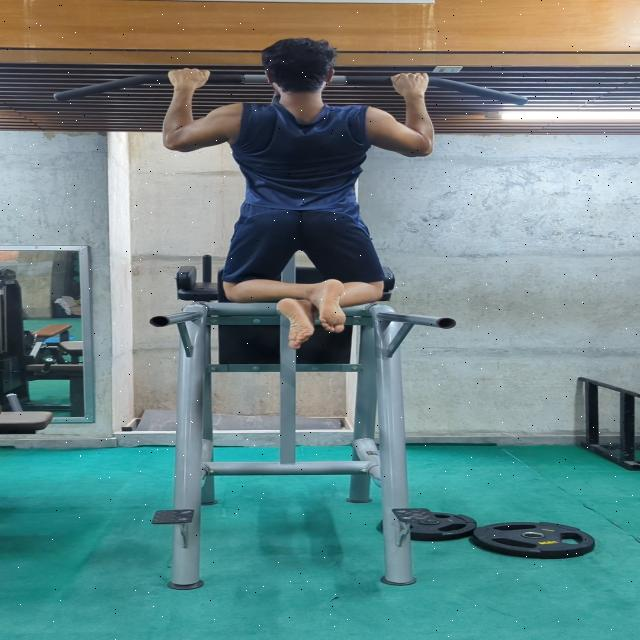Normal_PullUps: (158, 40, 436, 352)
